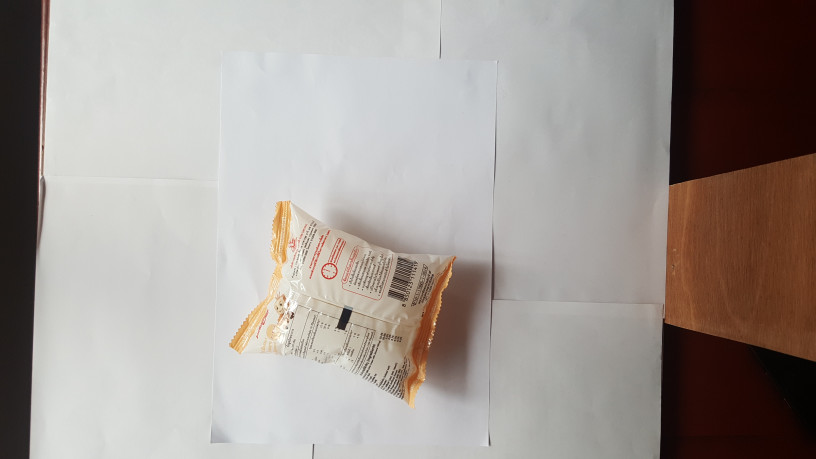farmhouse-sweetsandwich-almond: (214, 197, 458, 406)
